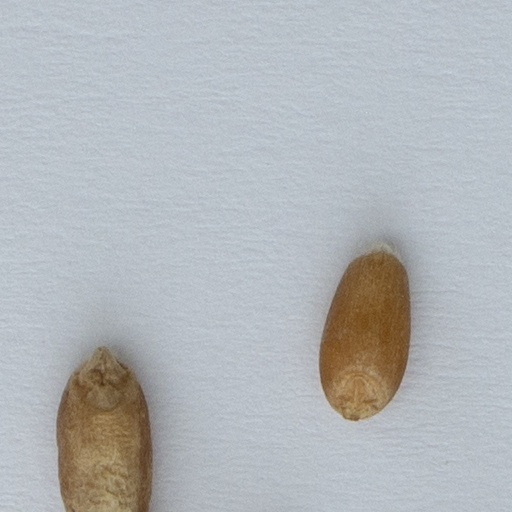Wheat-grain-poly: (317, 244, 414, 425)
